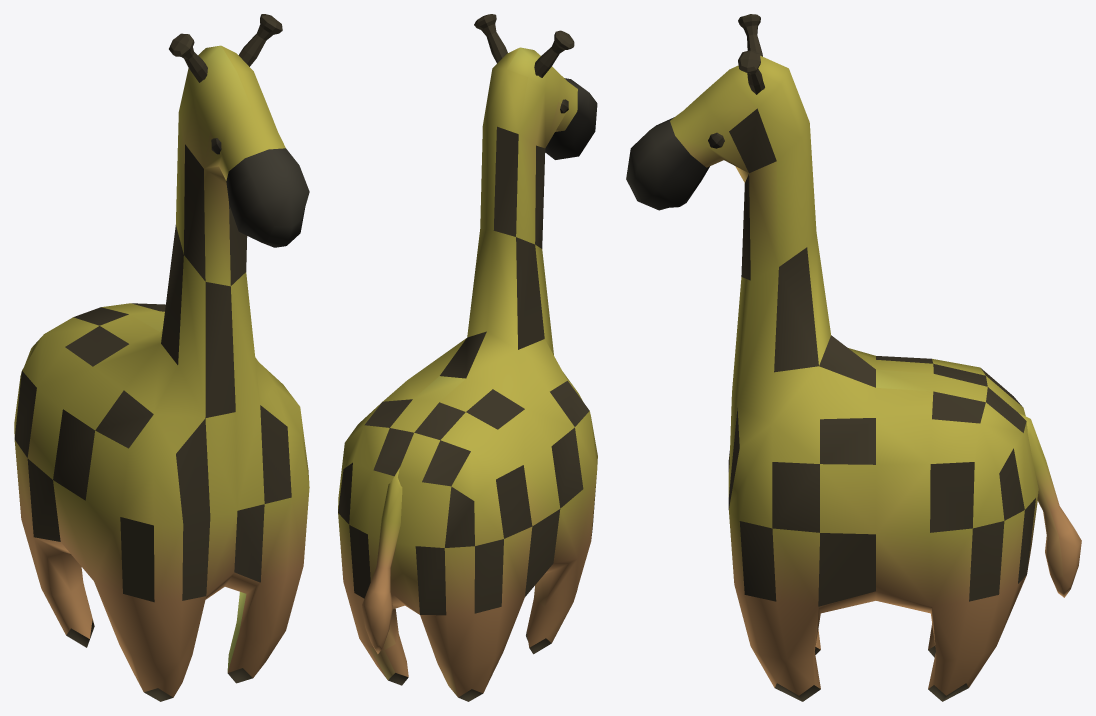
Rendered from giraffe.fbx.
The picture shows the model from 3 angles, left to right: view 1: azimuth 30°, elevation 25°; view 2: azimuth 150°, elevation 25°; view 3: azimuth 270°, elevation 25°; orthographic projection. The views are drawn at different scales.
Parts seen in each view (by area): view 1: giraffe; view 2: giraffe; view 3: giraffe.
Boxes of the visible parts, <box> form: giraffe: <box>14,14,309,701</box>; giraffe: <box>338,14,597,701</box>; giraffe: <box>626,14,1081,701</box>.
Size of the model in its own units: 0.6773 by 2.08 by 1.32.
